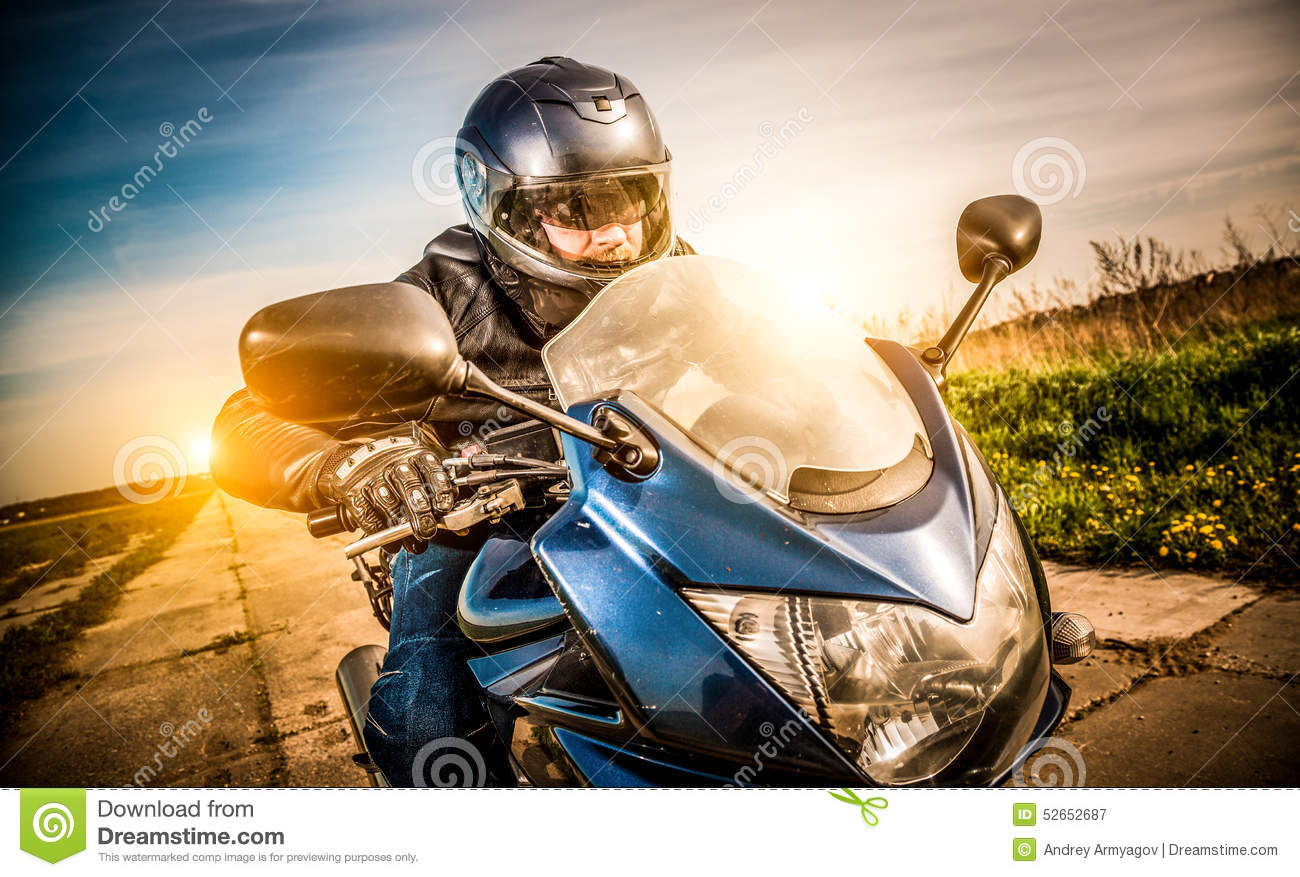helmet: (443, 75, 675, 278)
